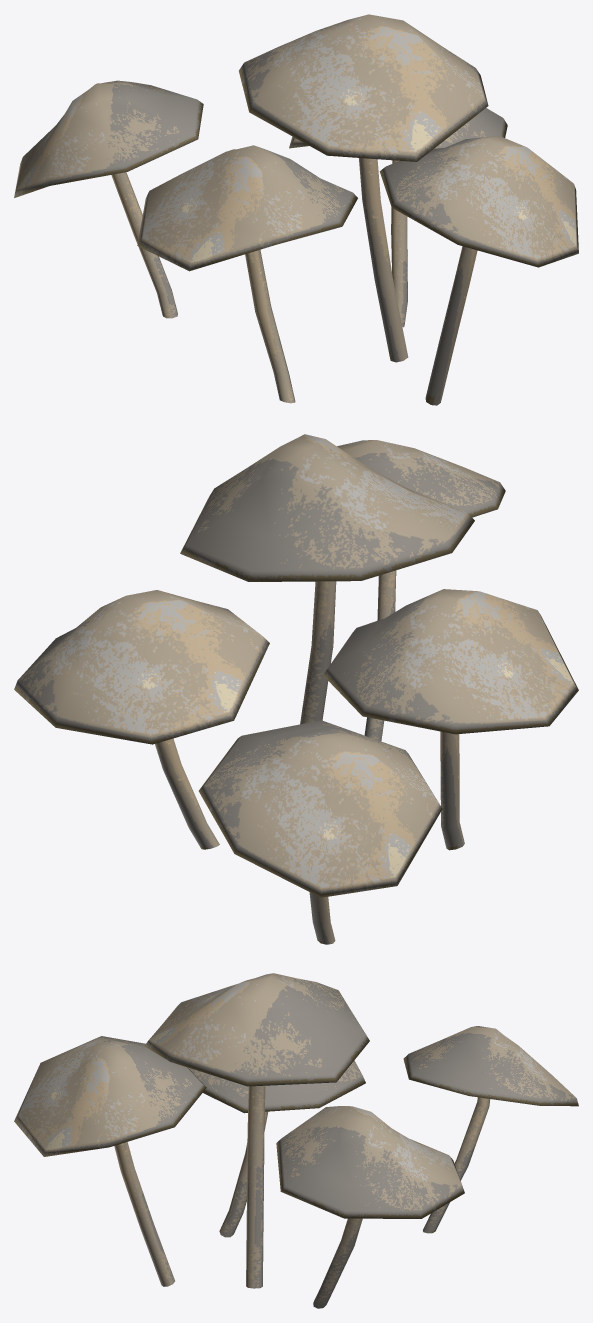
The model's file is Mushroom_Common__go_village.glb.
3 renders of one model, top to bottom at view 1: azimuth 30°, elevation 25°; view 2: azimuth 150°, elevation 25°; view 3: azimuth 270°, elevation 25°, orthographic. The views are drawn at different scales.
Parts seen in each view (by area): view 1: Mushroom_Common; view 2: Mushroom_Common; view 3: Mushroom_Common.
Boxes of the visible parts, x1=… form: Mushroom_Common: x1=14, y1=14, x2=578, y2=405; Mushroom_Common: x1=14, y1=434, x2=578, y2=944; Mushroom_Common: x1=14, y1=973, x2=578, y2=1308.
Bounding box in the file's own units: 0.5637 × 0.4635 × 0.7791.
Materials: 1 (1 with a texture image).
